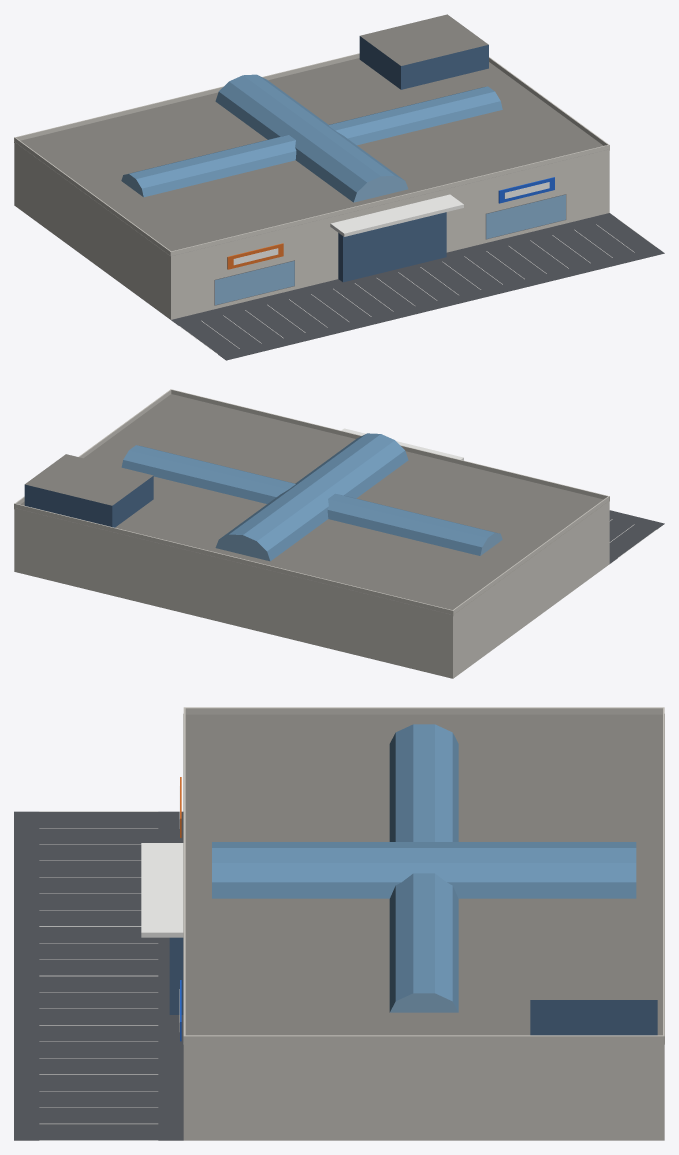
The model's file is centre_commercial.glb.
3 views of the same model, one above another, from view 1: azimuth 30°, elevation 25°; view 2: azimuth 150°, elevation 25°; view 3: azimuth 270°, elevation 25° (orthographic). The views are drawn at different scales.
Parts seen in each view (by area): view 1: centre_commercial; view 2: centre_commercial; view 3: centre_commercial.
Boxes of the visible parts, x1,y1,x2,y2 form: centre_commercial: [14, 14, 664, 360]; centre_commercial: [14, 389, 664, 678]; centre_commercial: [14, 707, 664, 1140].
Size of the model in its own units: 110 by 21 by 92.05.
Materials: 1 (1 with a texture image).
